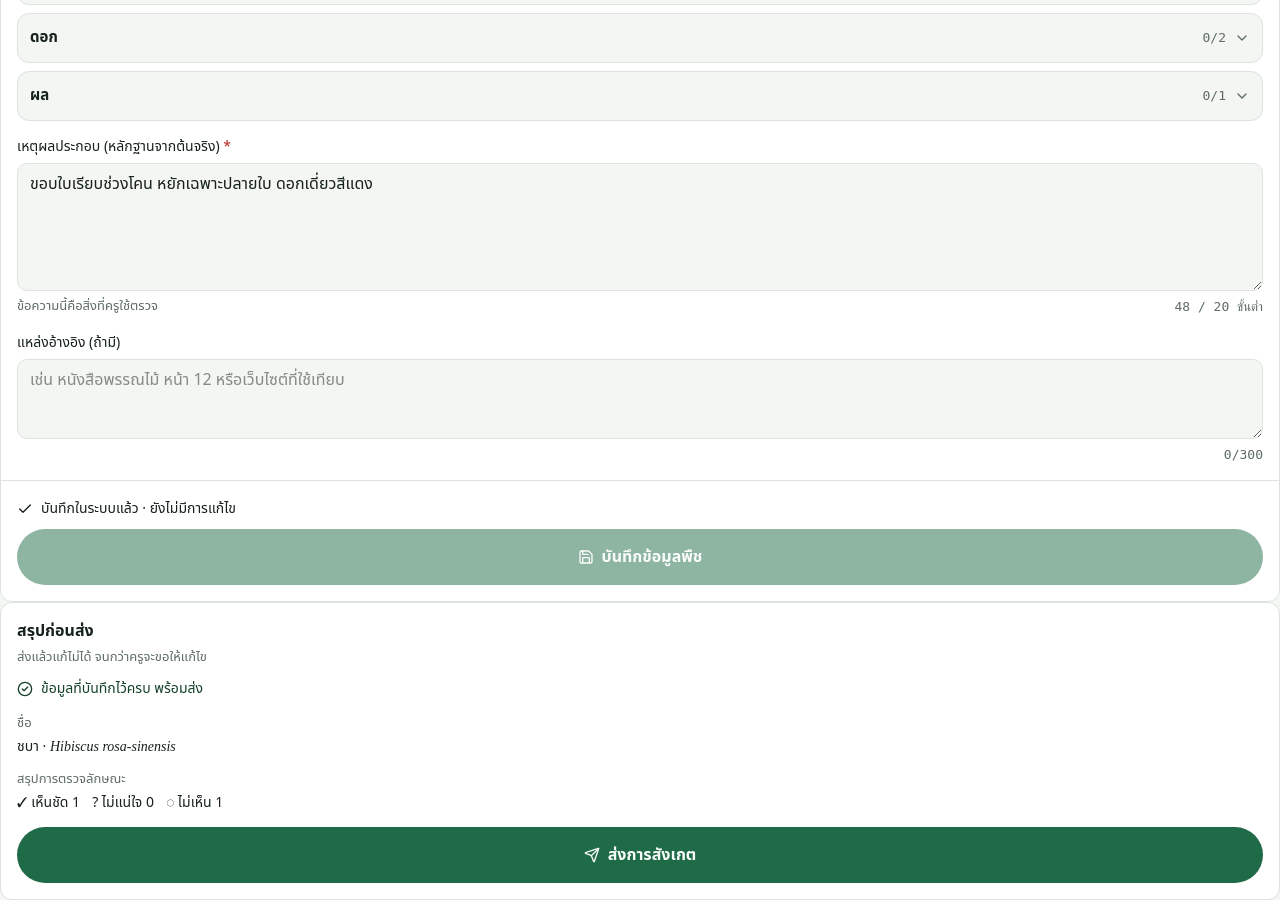
Test: PlantReviewSection › submits after review-before-submit and shows the frozen submission
(page scrolled)
Expected: the text "✓ เห็นชัด 1" is shown, top-left (17, 791), bottom-right (80, 815)
Click the button "ส่งการสังเกต" at [640, 855], box top-left (17, 827), bottom-right (1263, 883)
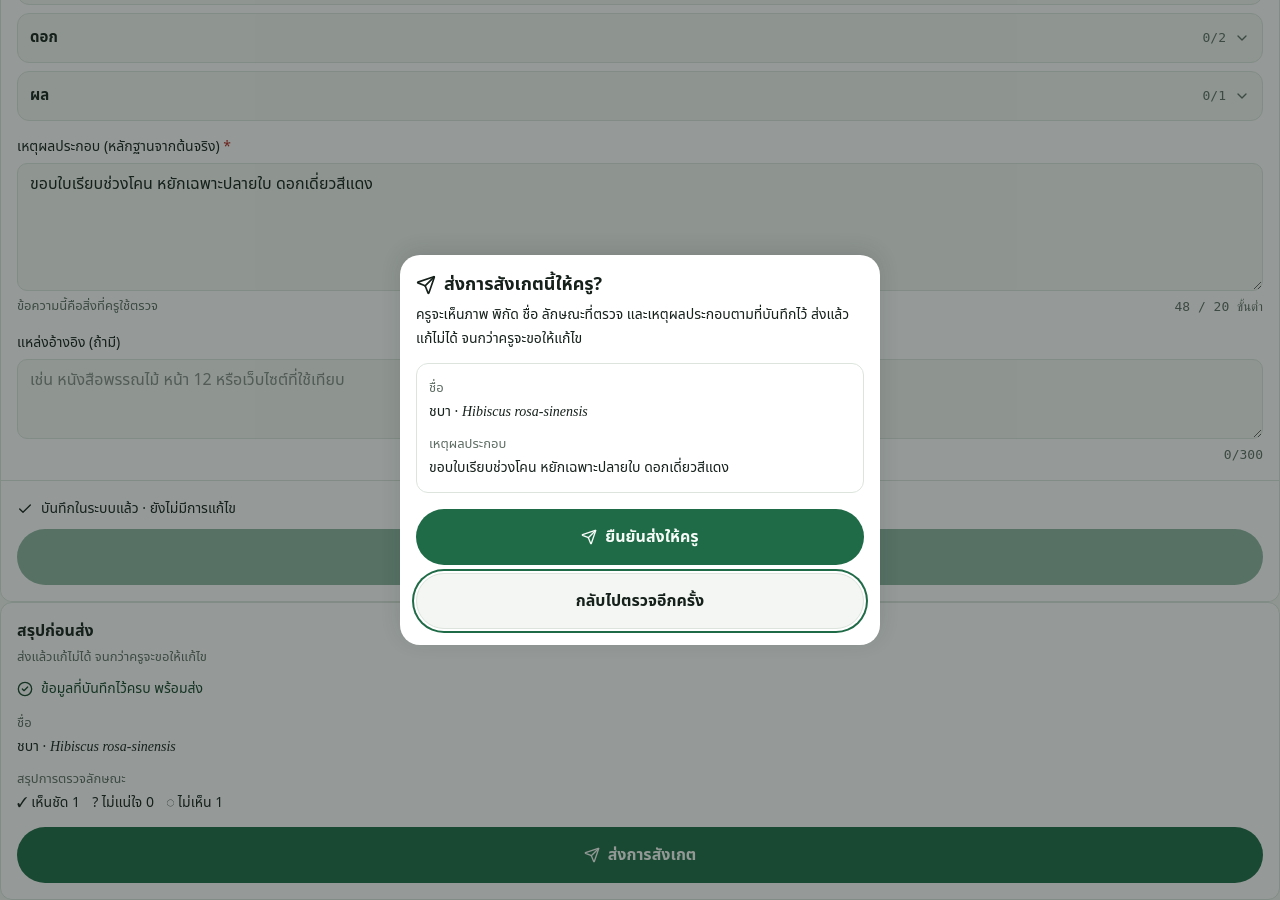
Expected: the text "Hibiscus rosa-sinensis" is shown, top-left (462, 404), bottom-right (588, 419)
Click the button "ยืนยันส่งให้ครู" at [640, 537], box top-left (416, 509), bottom-right (864, 565)
(page scrolled)
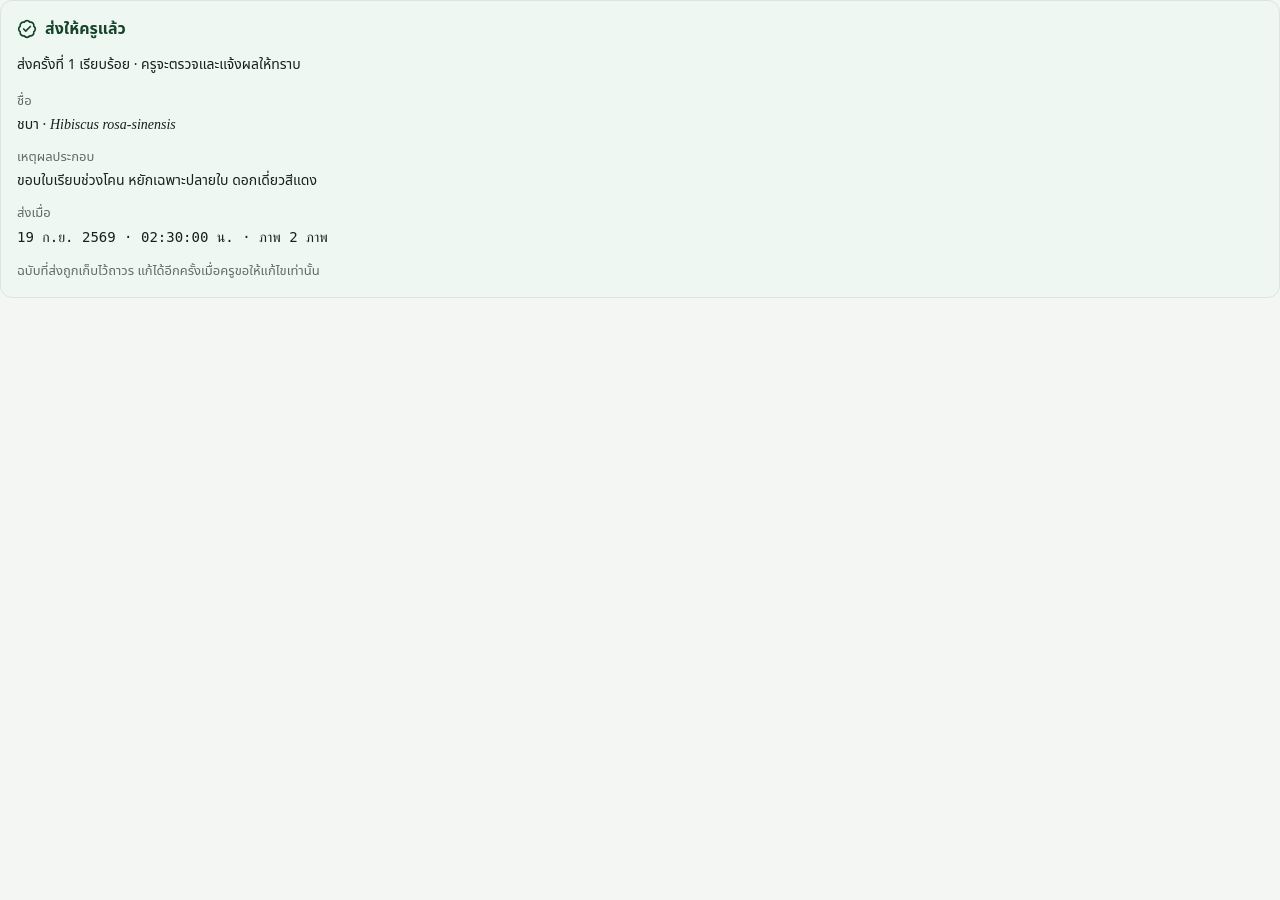
Expected: the text "ส่งครั้งที่ 1 เรียบร้อย · ครูจะตรวจและแจ้งผลให้ทราบ" is shown, top-left (17, 54), bottom-right (301, 75)
